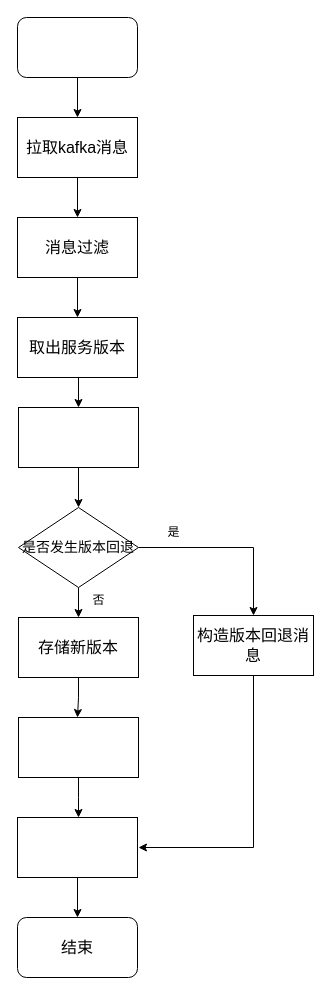
This 331x995 diagram has some shape labels left out. Here are the shapes that lost their labels. From the top down, the centre of each, then its label:
the point at 77,47: 开始
the point at 78,437: 与内存中版本对比
the point at 78,747: 构造版本升级消息
the point at 77,847: 发送告警
